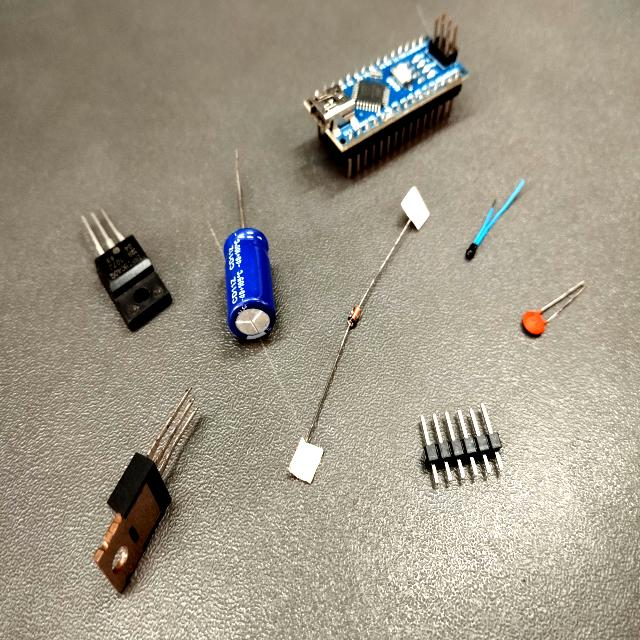capacitor: (224, 228, 275, 337), (520, 309, 551, 339)
